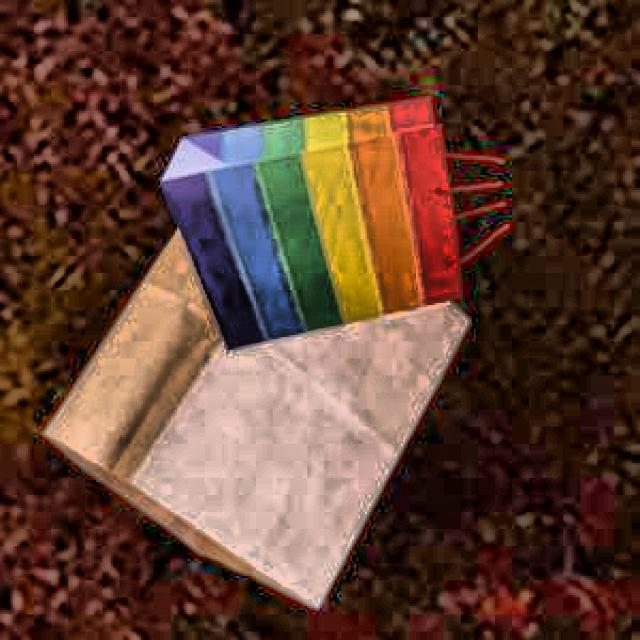Paper-bag: (41, 200, 476, 587), (147, 91, 538, 351)
